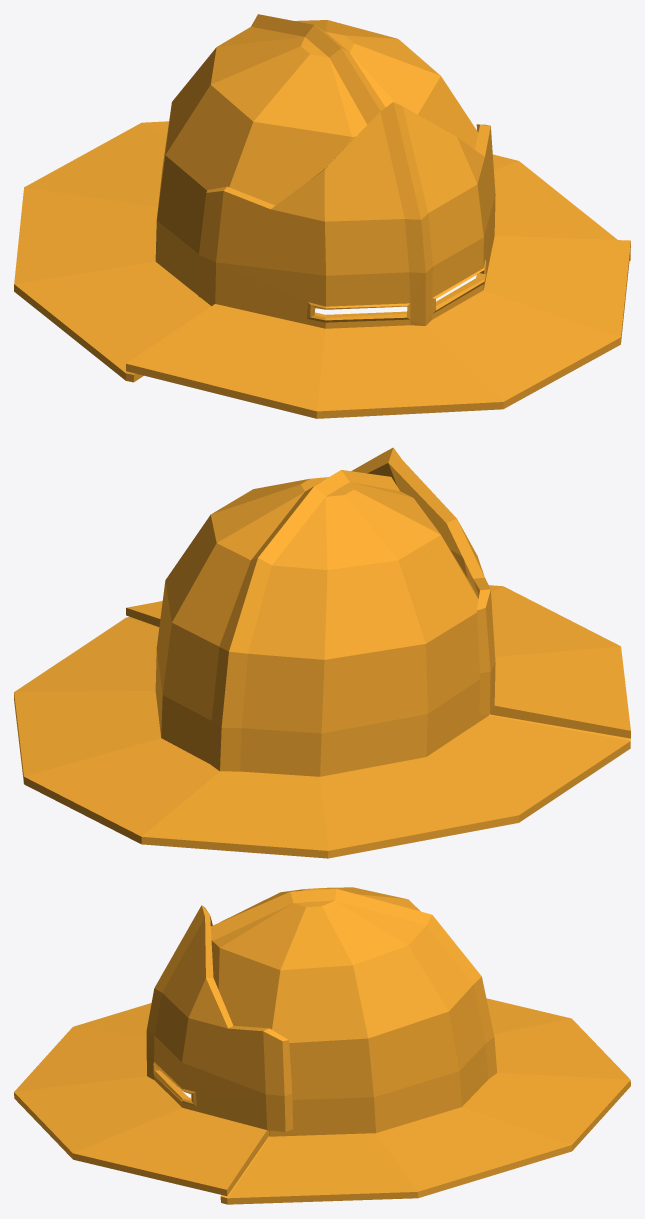
File: SM_Helmet_Kattle_Hat_Visored_Placed.fbx
The picture shows the model from 3 angles, top to bottom: view 1: azimuth 30°, elevation 25°; view 2: azimuth 150°, elevation 25°; view 3: azimuth 270°, elevation 25°; orthographic projection. The views are drawn at different scales.
Visible parts, largest first — view 1: helmet-kattle-hat-visored-placed-visor, helmet-kattle-hat-visored--placed-helmet; view 2: helmet-kattle-hat-visored--placed-helmet, helmet-kattle-hat-visored-placed-visor; view 3: helmet-kattle-hat-visored--placed-helmet, helmet-kattle-hat-visored-placed-visor.
Part boxes in pixels (x1=…): helmet-kattle-hat-visored-placed-visor: x1=126, y1=102, x2=630, y2=418; helmet-kattle-hat-visored--placed-helmet: x1=14, y1=14, x2=630, y2=382; helmet-kattle-hat-visored--placed-helmet: x1=14, y1=470, x2=630, y2=858; helmet-kattle-hat-visored-placed-visor: x1=126, y1=447, x2=630, y2=738; helmet-kattle-hat-visored--placed-helmet: x1=211, y1=887, x2=630, y2=1204; helmet-kattle-hat-visored-placed-visor: x1=14, y1=905, x2=293, y2=1195.
Bounding box in the file's own units: 0.4038 × 0.1925 × 0.5015.
